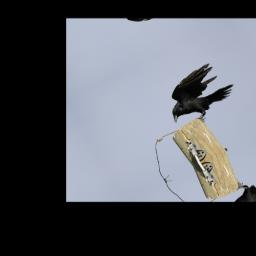Crow: (156, 56, 245, 133)
